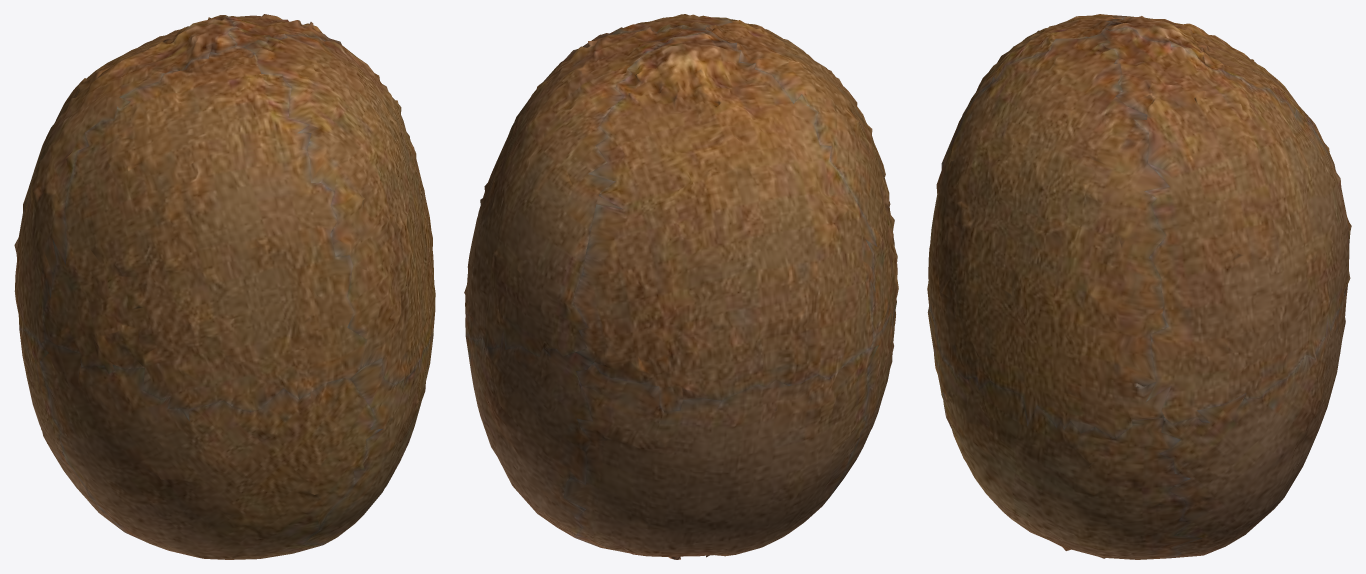
The picture shows the model from 3 angles, left to right: view 1: azimuth 30°, elevation 25°; view 2: azimuth 150°, elevation 25°; view 3: azimuth 270°, elevation 25°; orthographic projection.
Visible parts, largest first — view 1: food_kiwi_01; view 2: food_kiwi_01; view 3: food_kiwi_01.
Part boxes in pixels (x1,y1,x2,y2): food_kiwi_01: (14, 14, 435, 559); food_kiwi_01: (464, 14, 898, 559); food_kiwi_01: (927, 14, 1351, 559).
Bounding box in the file's own units: 0.0695 × 0.0901 × 0.0686.
Materials: 1 (1 with a texture image).
